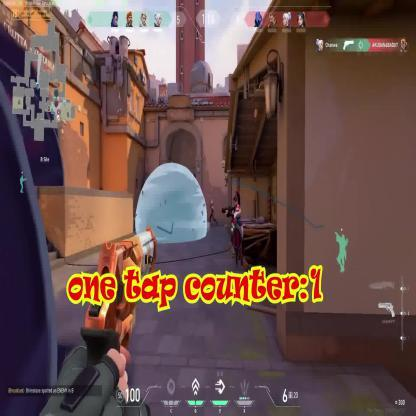enemy: (225, 190, 244, 267), (209, 198, 218, 226)
enemy_head: (232, 196, 238, 206), (211, 199, 213, 205)
